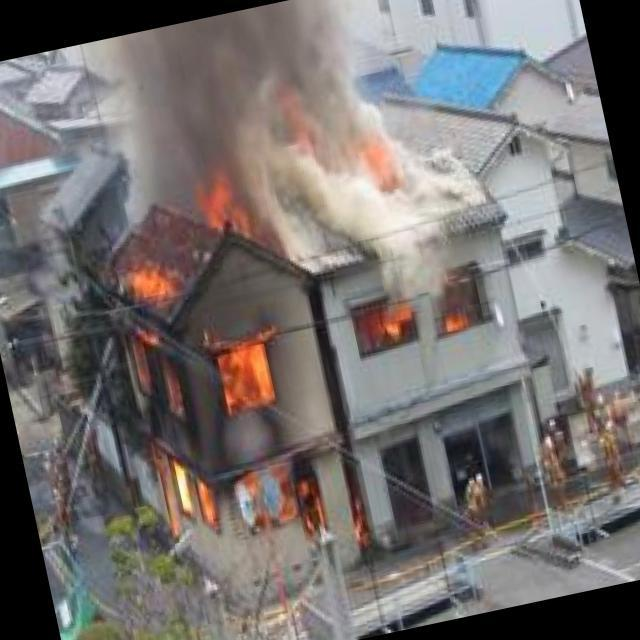Fire: (96, 185, 322, 556), (355, 270, 489, 356)
